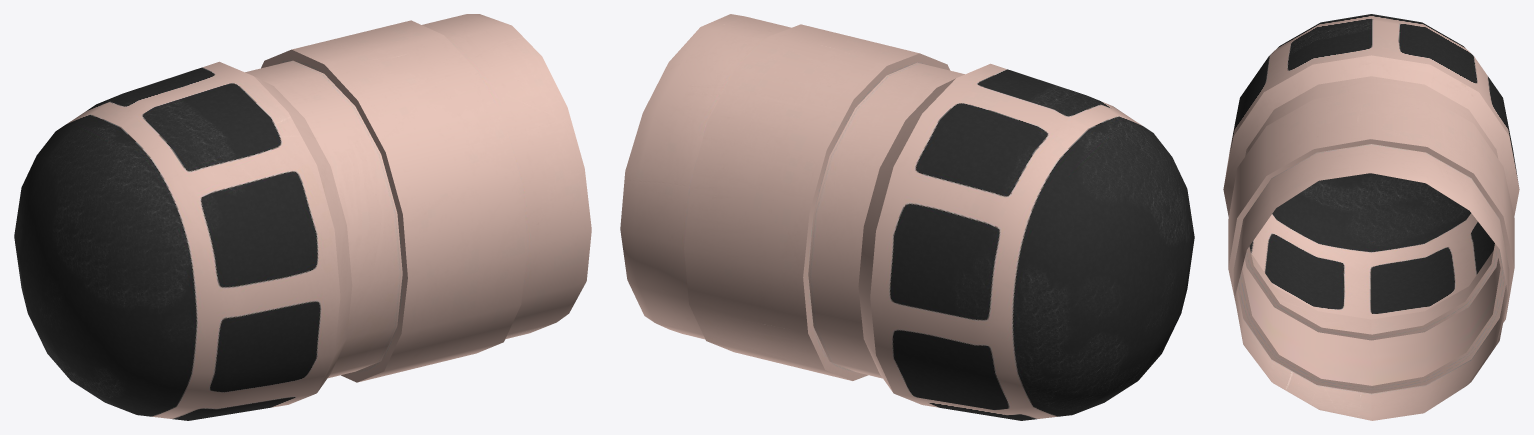
Rendered from pommel_12_c_c.glb.
3 renders of one model, left to right at view 1: azimuth 30°, elevation 25°; view 2: azimuth 150°, elevation 25°; view 3: azimuth 270°, elevation 25°, orthographic. The views are drawn at different scales.
Visible parts, largest first — view 1: pommel_12_c_c_lod0; view 2: pommel_12_c_c_lod0; view 3: pommel_12_c_c_lod0.
Part boxes in pixels (left/top/right/bottom): pommel_12_c_c_lod0: left=14, top=14, right=591, bottom=420; pommel_12_c_c_lod0: left=620, top=14, right=1194, bottom=420; pommel_12_c_c_lod0: left=1223, top=14, right=1519, bottom=420.
Size of what is drawn, in the model's own units: 0.0482 by 0.031 by 0.031.
1 material, 1 textured.
